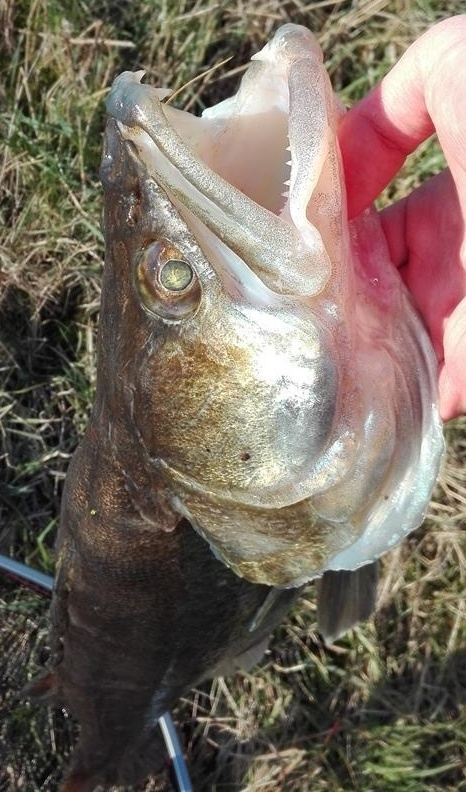Sander lucioperca: (20, 20, 446, 792)
